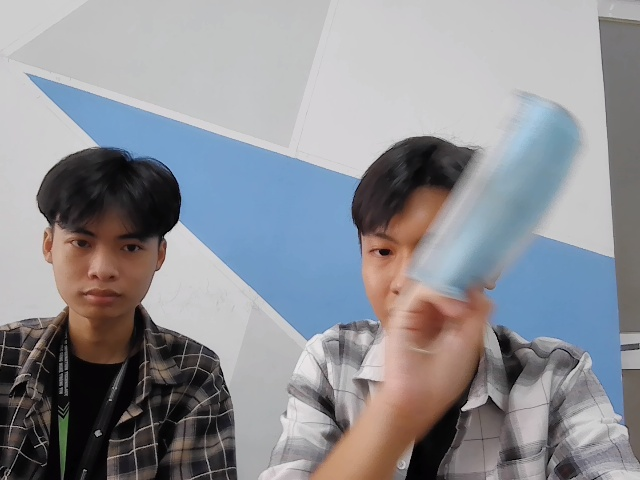human: (350, 134, 497, 349), (37, 146, 181, 325)
mask: (406, 98, 583, 304)
